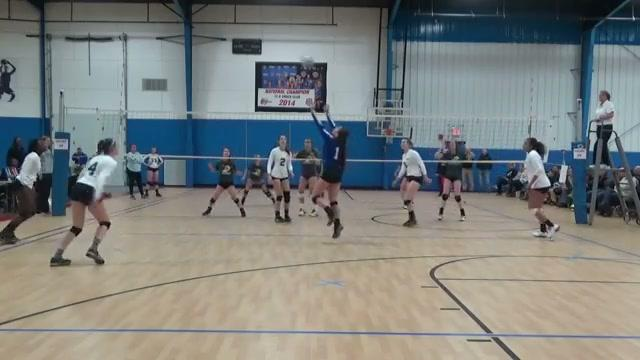ball: (299, 55, 317, 70)
